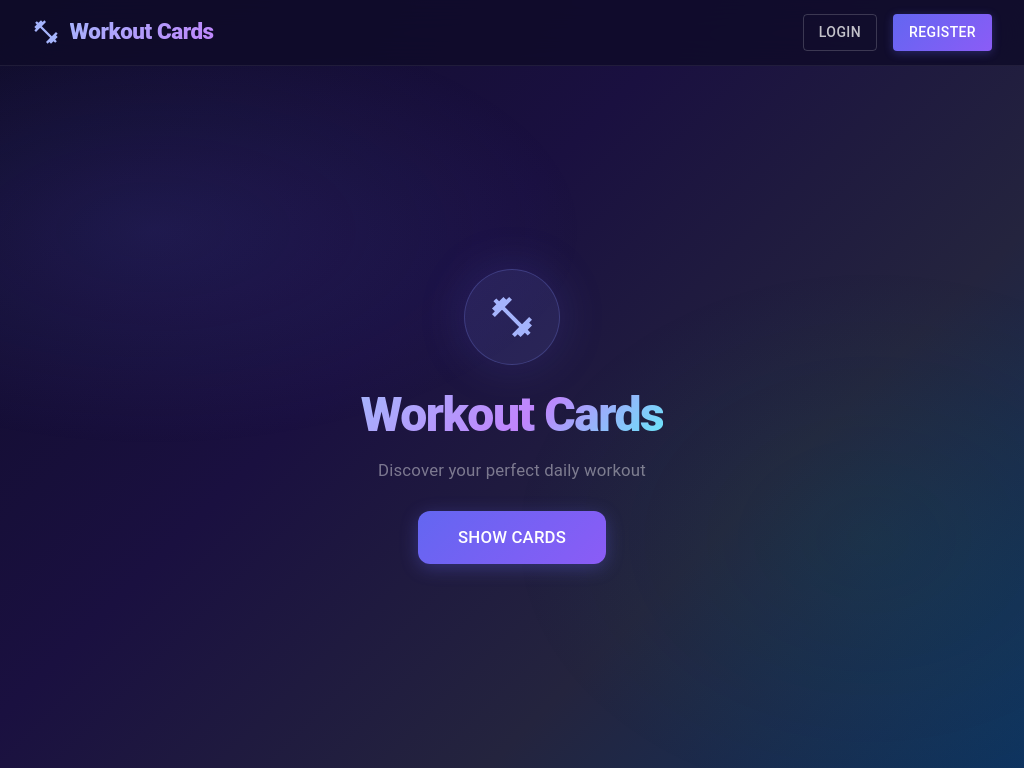
App › requires authentication to open the exercise library
Click the button "Show Cards" at (512, 538), box [418,511,606,564]
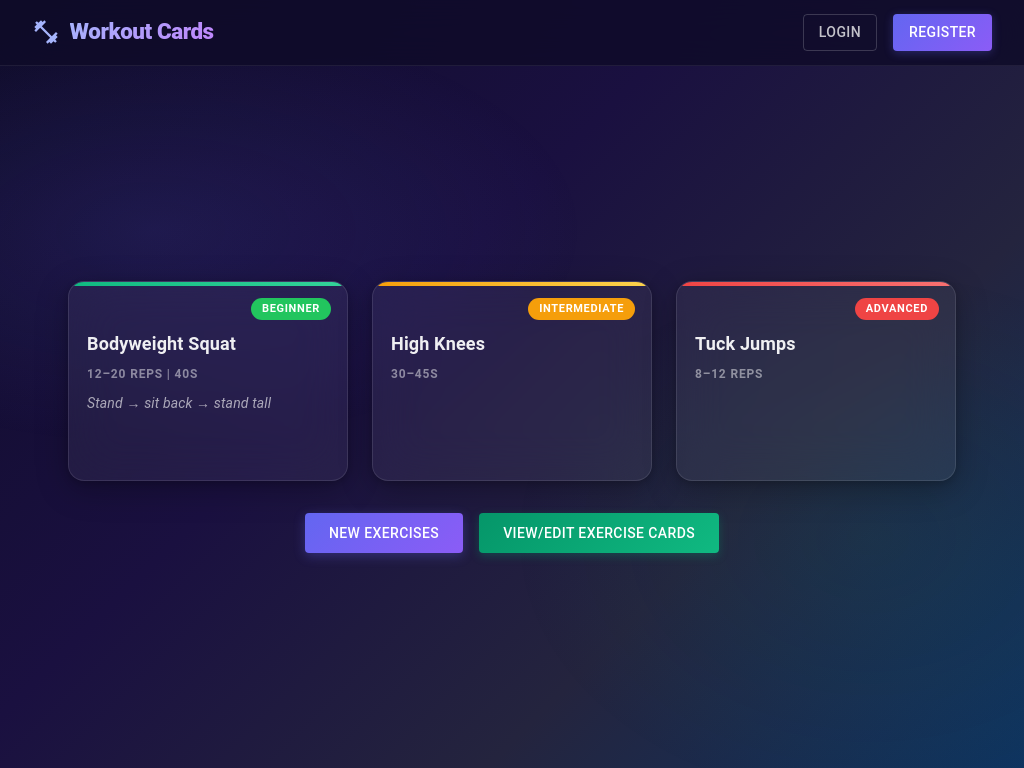
Click the button "View/Edit Exercise Cards" at (599, 533), box [479,512,719,553]
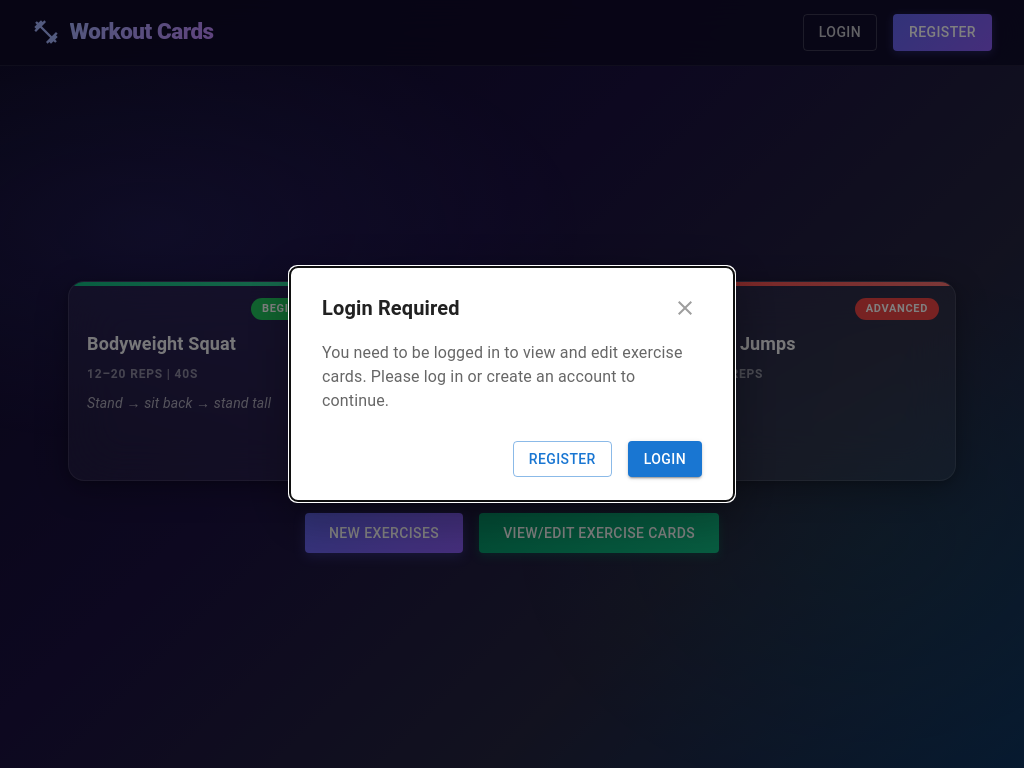
Expected: the heading "Login Required" is shown, [322,292,460,324]
Expected: the text "need to be logged in to view and edit exercise cards" is shown, [322,343,682,410]
